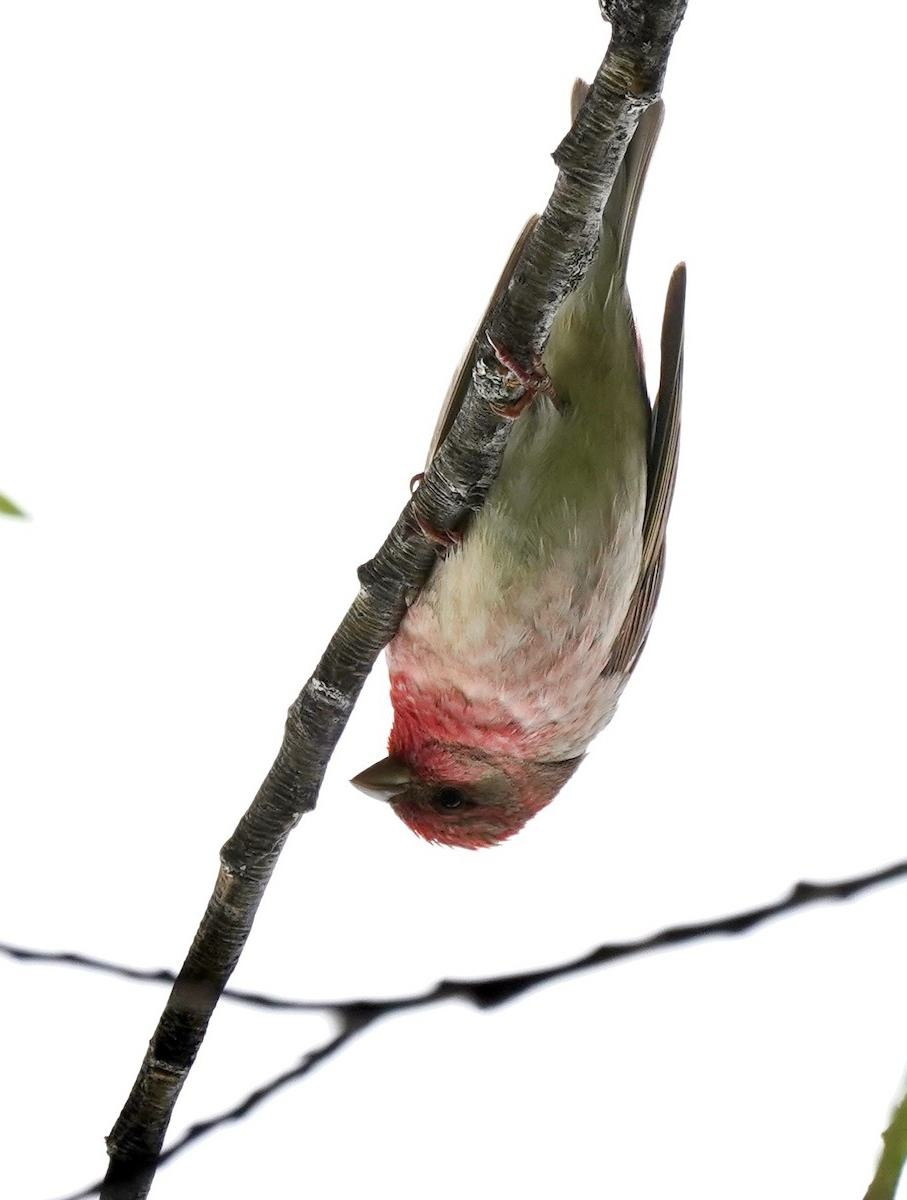rosefinch: (342, 156, 718, 880)
